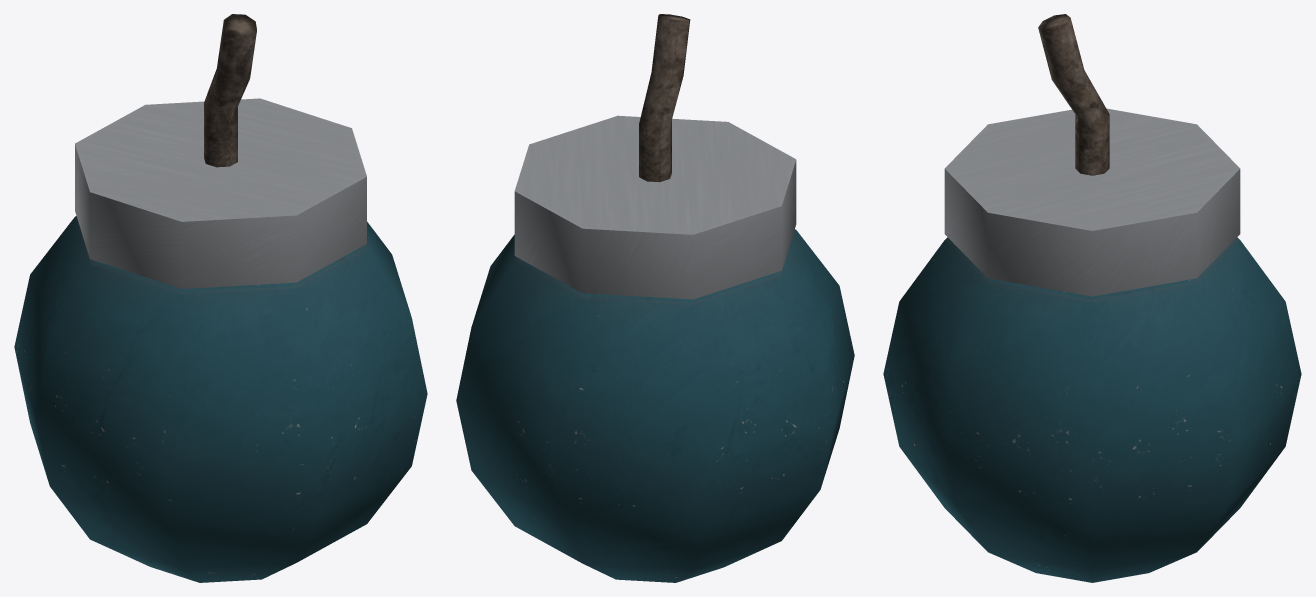
File: bomb.fbx
The picture shows the model from 3 angles, left to right: view 1: azimuth 30°, elevation 25°; view 2: azimuth 150°, elevation 25°; view 3: azimuth 270°, elevation 25°; orthographic projection. The views are drawn at different scales.
Visible parts, largest first — view 1: pSphere1; view 2: pSphere1; view 3: pSphere1.
Part boxes in pixels (<box>): pSphere1: <box>14,14,427,582</box>; pSphere1: <box>456,14,854,582</box>; pSphere1: <box>883,14,1301,582</box>.
Size of the model in its own units: 0.3876 by 0.5583 by 0.3876.
1 material, 1 textured.
